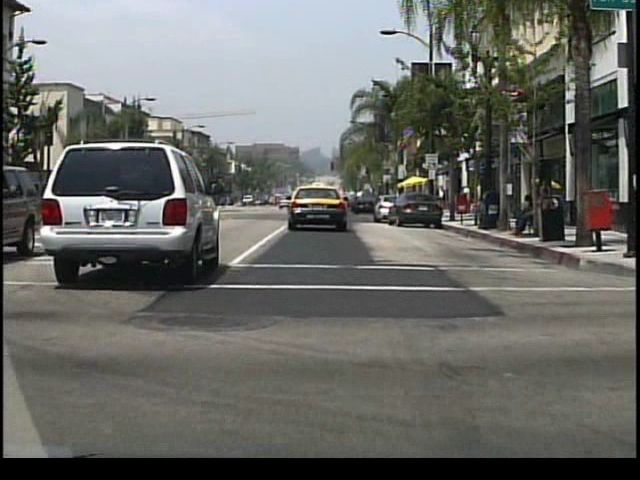person: (512, 190, 541, 236), (537, 178, 551, 233), (435, 184, 447, 211)
